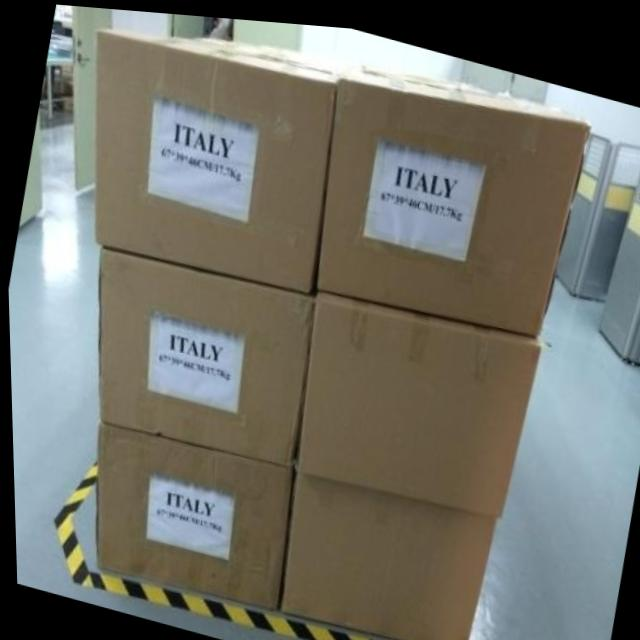box: (315, 57, 590, 330), (93, 29, 362, 291), (294, 291, 539, 510), (97, 244, 314, 463), (277, 464, 494, 640), (92, 423, 294, 605)
